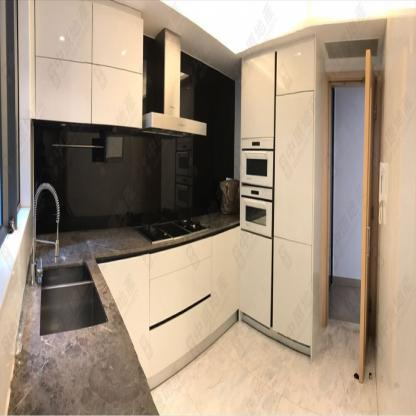Cupboard: (99, 36, 316, 379)
Exhaust Hood: (143, 28, 209, 138)
Faucet: (34, 179, 63, 273)
Oven: (240, 135, 274, 239)
Sink: (37, 261, 108, 339)
Stove: (138, 215, 207, 243)
